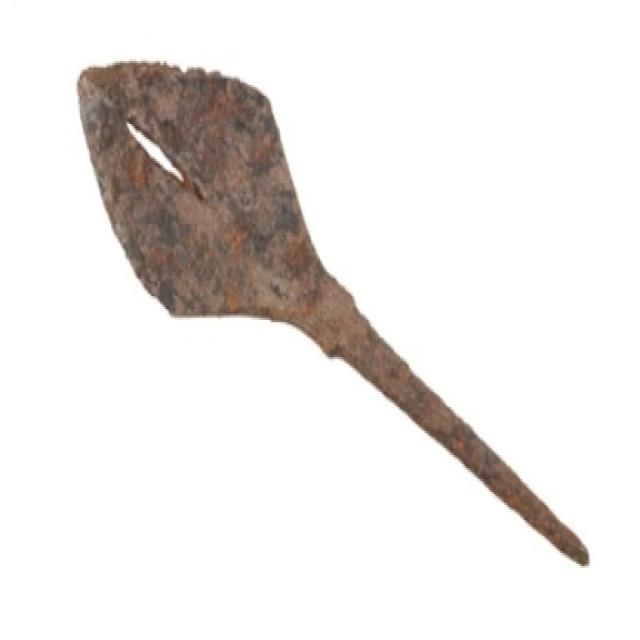spear: (64, 42, 606, 591)
